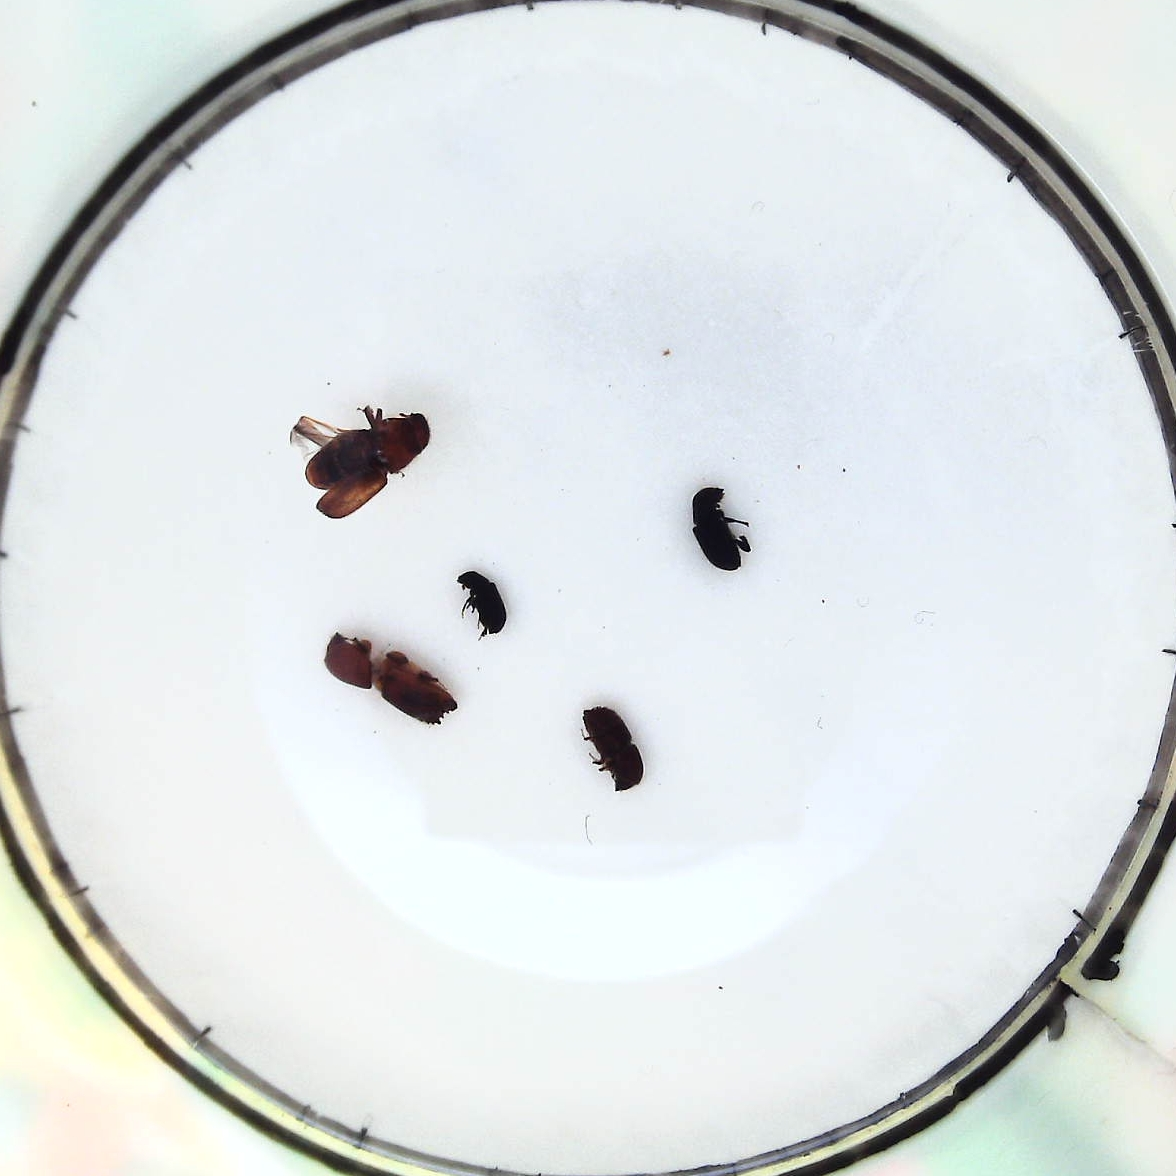Boerner: (325, 628, 454, 726)
Leconte: (286, 402, 432, 519)
Linnaeus: (582, 702, 645, 797)
armandi: (691, 487, 745, 570)
coleoptera: (457, 566, 513, 643)
